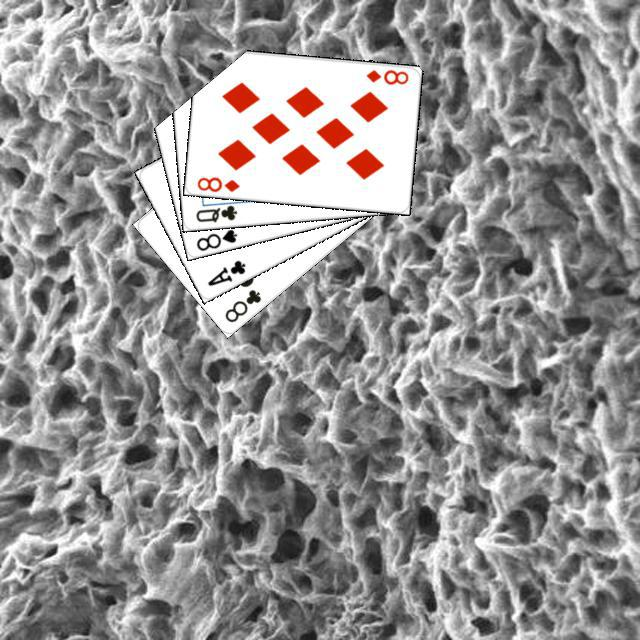8c: (220, 284, 263, 324)
8d: (192, 172, 241, 194), (361, 65, 410, 87)
8s: (191, 224, 239, 252)
Ac: (202, 255, 247, 288)
Qc: (191, 196, 242, 224)
